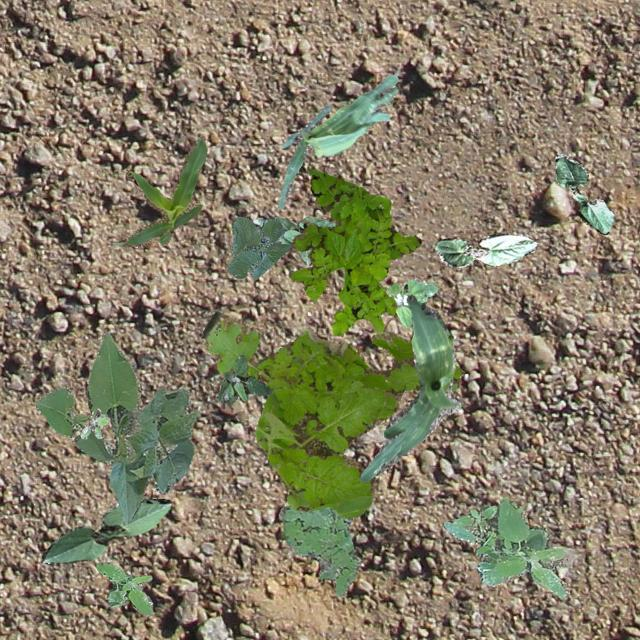crop: (35, 331, 198, 524), (360, 294, 460, 481), (278, 74, 398, 208), (110, 134, 206, 246), (41, 498, 170, 562), (554, 152, 614, 234), (252, 216, 334, 264), (227, 216, 290, 278), (434, 232, 536, 266)
weed: (202, 310, 464, 516), (288, 168, 419, 334), (442, 496, 568, 598), (278, 504, 360, 596), (95, 562, 152, 614), (217, 354, 270, 404), (384, 278, 436, 326), (80, 406, 106, 438)
